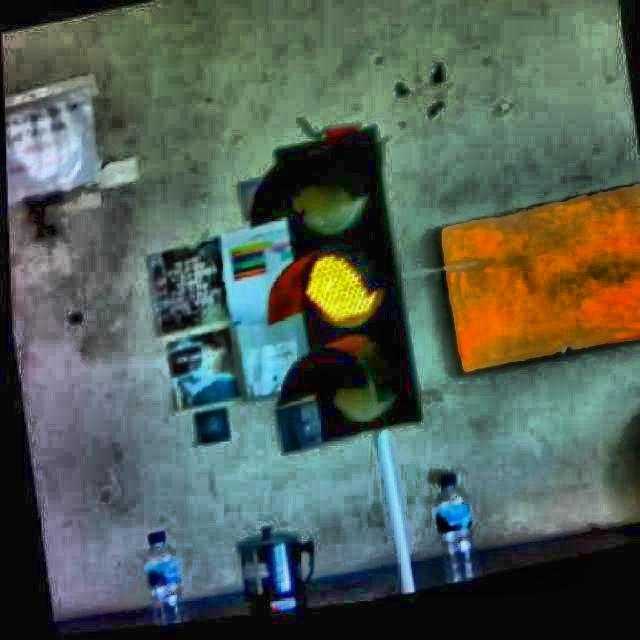yellow: (256, 125, 426, 428)
